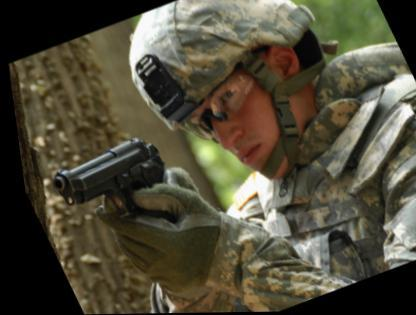pistol: (36, 130, 180, 238)
